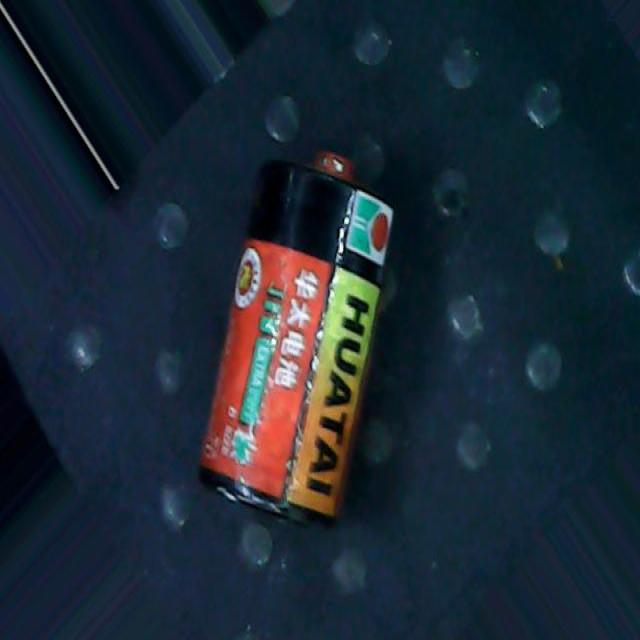-Hazardous waste - battery-: (198, 146, 396, 529)
